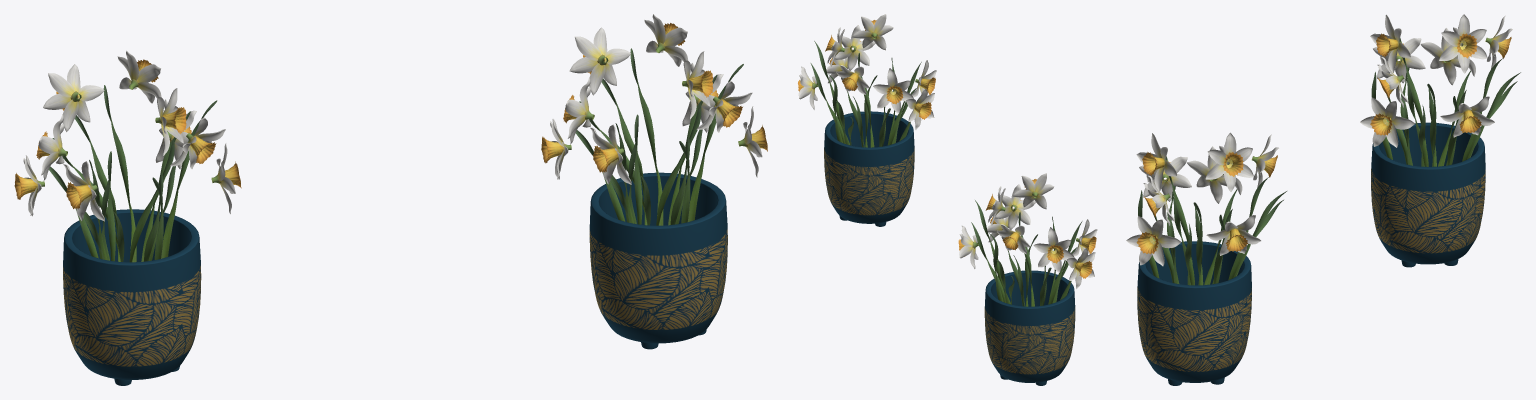
Rendered from Room4-Flower12.glb.
The picture shows the model from 3 angles, left to right: view 1: azimuth 30°, elevation 25°; view 2: azimuth 150°, elevation 25°; view 3: azimuth 270°, elevation 25°; orthographic projection. The views are drawn at different scales.
Parts seen in each view (by area): view 1: Object_15.001, Object_15.006; view 2: Object_15.006, Object_15.001; view 3: Object_15.001, Object_15.006.
Boxes of the visible parts, x1=… form: Object_15.001: x1=541, y1=14, x2=767, y2=349; Object_15.006: x1=14, y1=51, x2=241, y2=385; Object_15.006: x1=958, y1=173, x2=1097, y2=385; Object_15.001: x1=798, y1=14, x2=936, y2=226; Object_15.001: x1=1126, y1=132, x2=1286, y2=385; Object_15.006: x1=1360, y1=14, x2=1520, y2=267.
Size of the model in its own units: 4.21 by 2.4 by 3.03.
Materials: 4 (4 with a texture image).
